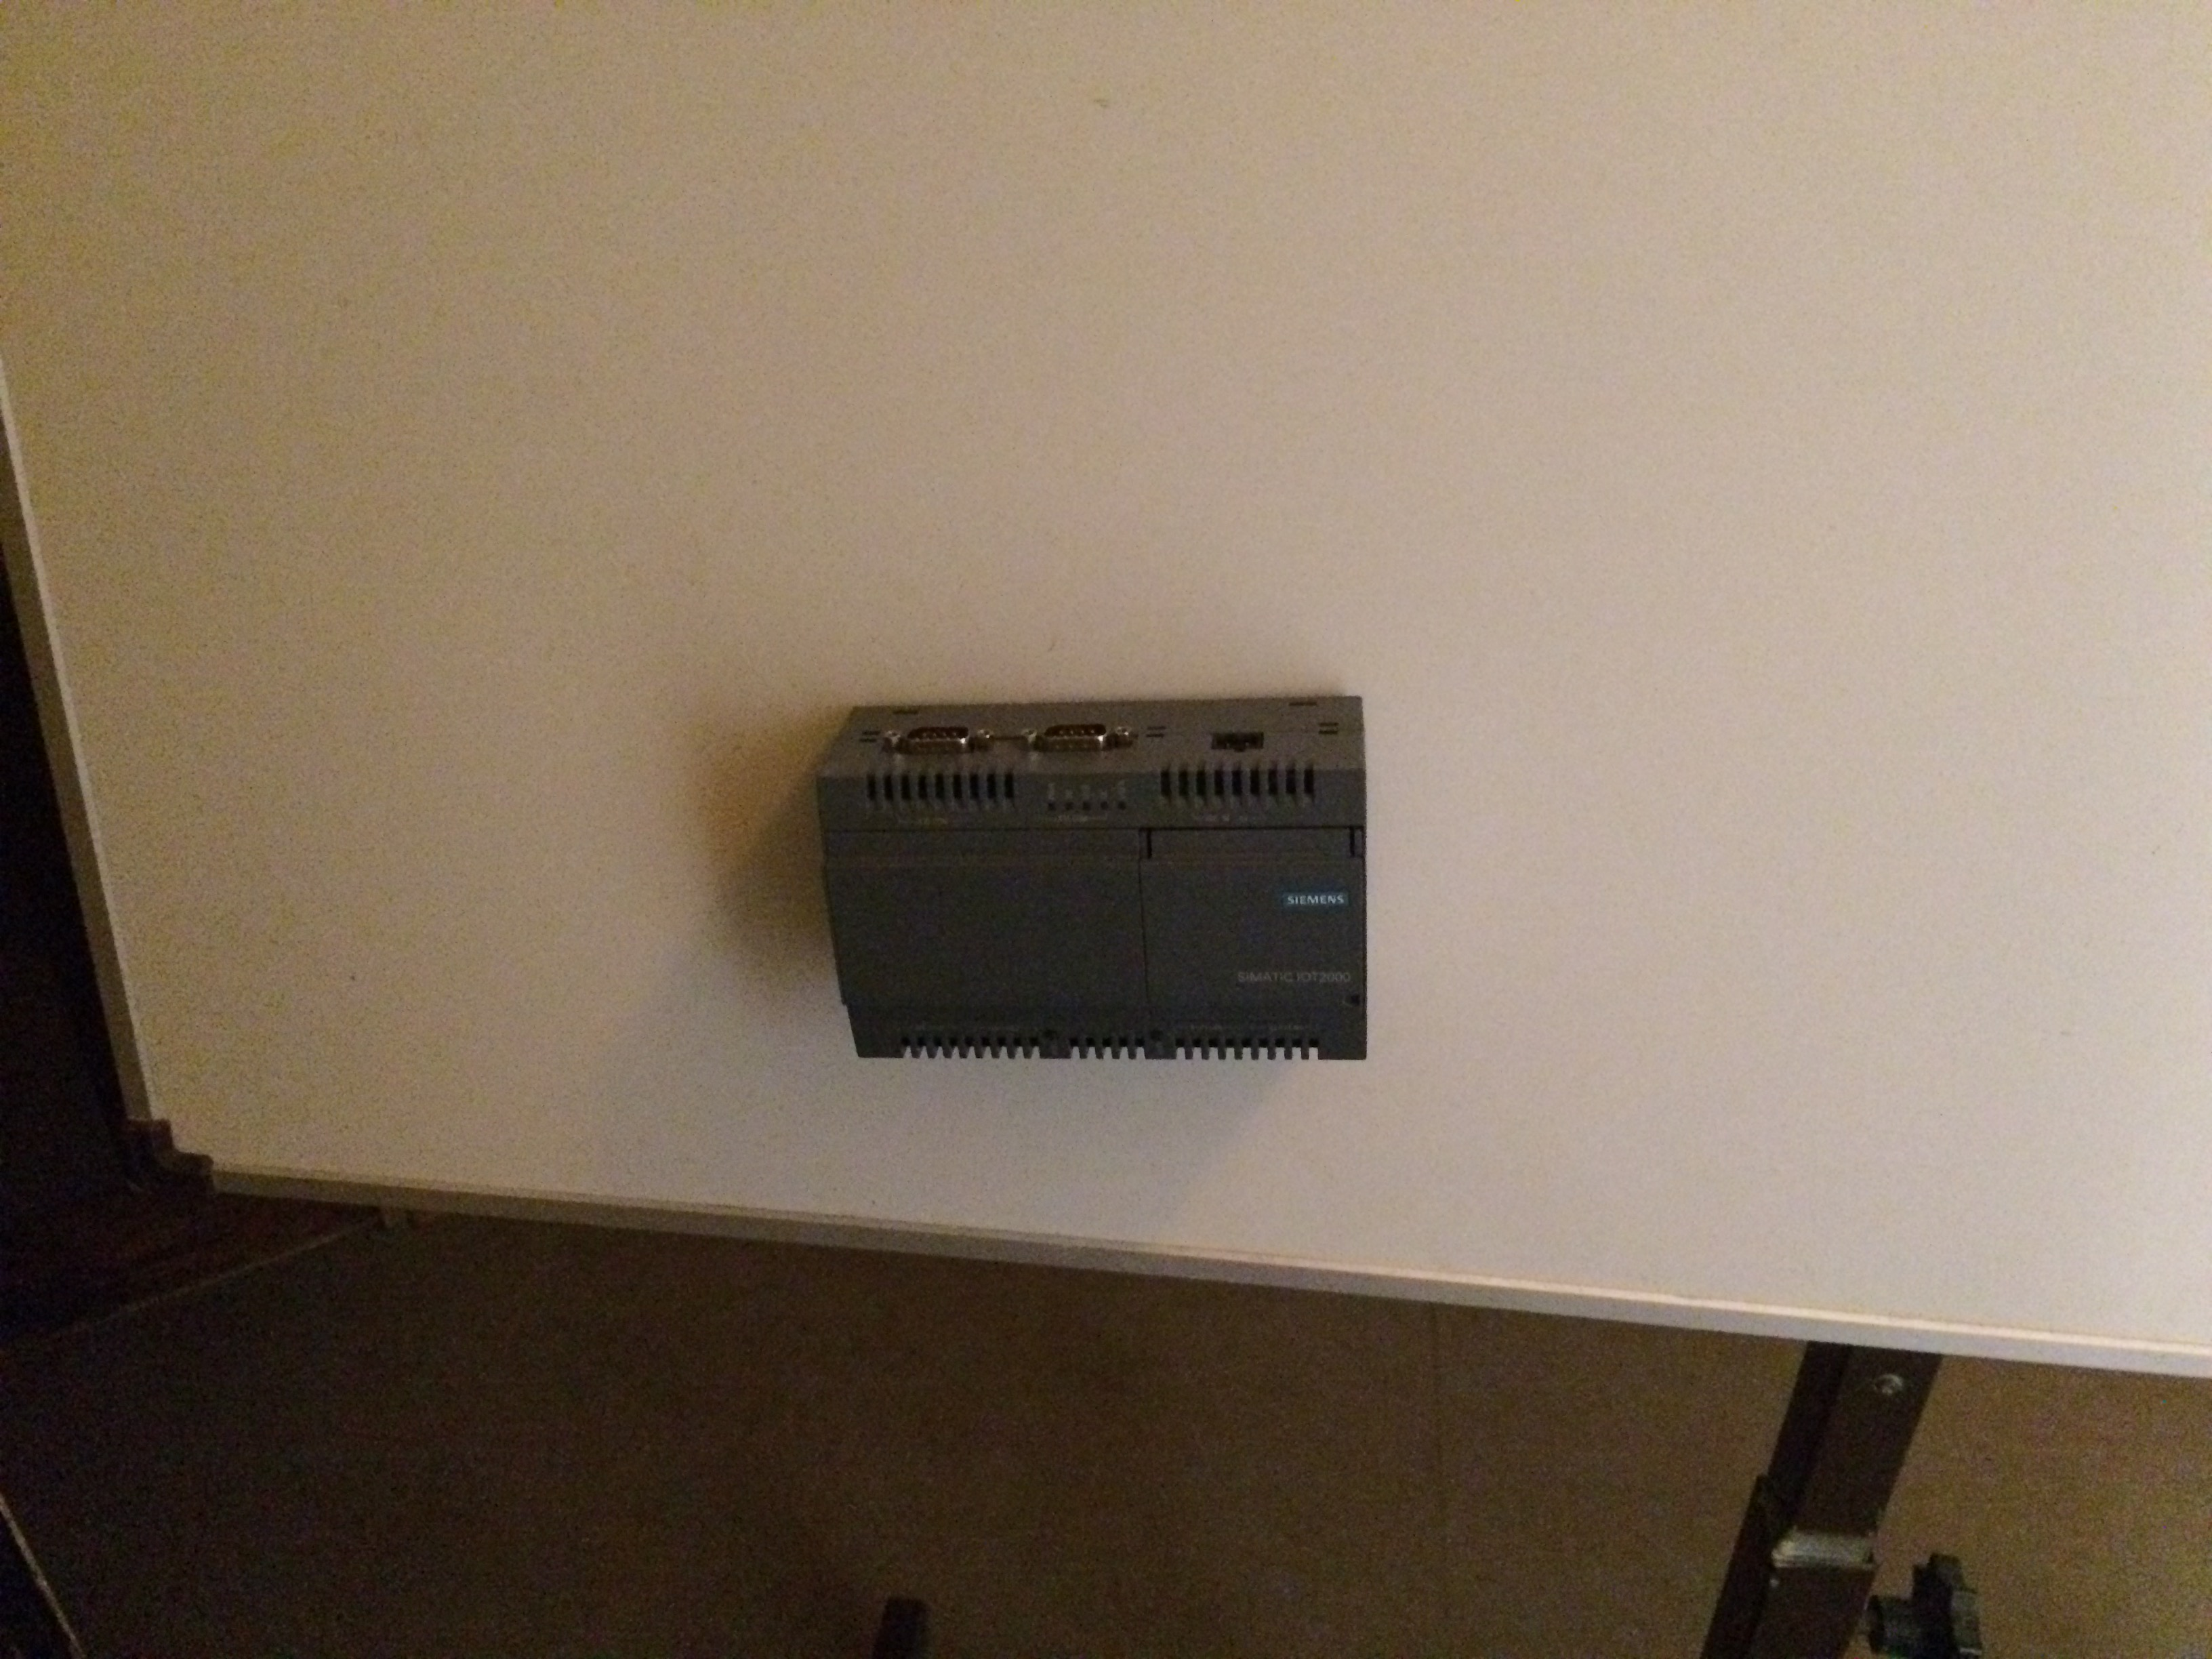iot2000: (813, 692, 1372, 1065)
